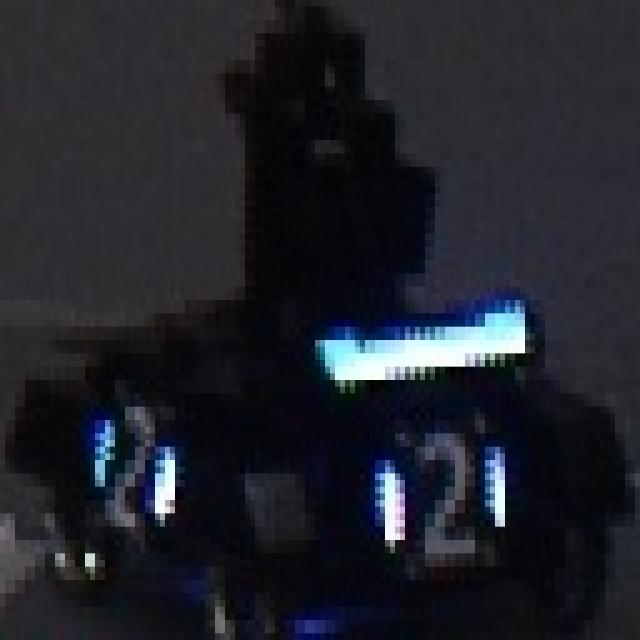B2: (85, 380, 185, 547), (375, 427, 500, 560)
